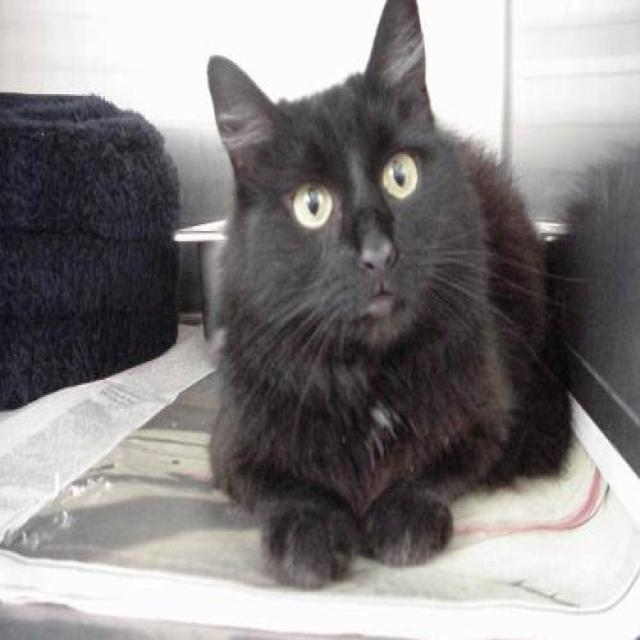cat: (146, 0, 576, 593)
